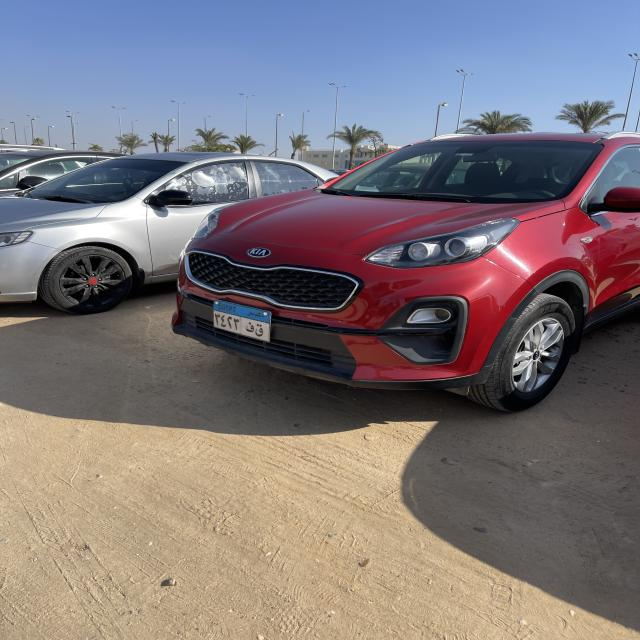License Plate: (213, 299, 272, 343)
